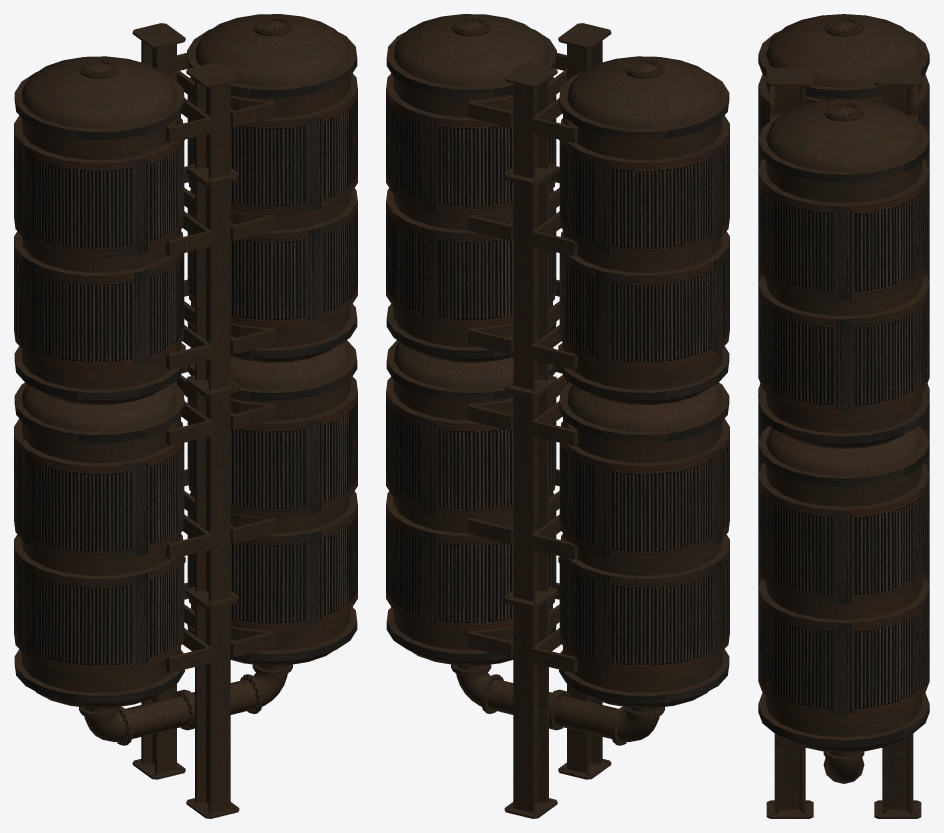
The model's file is boiler_hx_3.glb.
3 views of the same model, side by side, from view 1: azimuth 30°, elevation 25°; view 2: azimuth 150°, elevation 25°; view 3: azimuth 270°, elevation 25° (orthographic).
Parts seen in each view (by area): view 1: boiler_hx_3; view 2: boiler_hx_3; view 3: boiler_hx_3.
Boxes of the visible parts, box(x1,y1,x2,y2) form: boiler_hx_3: box(14, 14, 357, 818); boiler_hx_3: box(386, 14, 729, 818); boiler_hx_3: box(758, 14, 929, 818).
Bounding box in the file's own units: 4.78 × 10.55 × 2.2.
2 materials, 2 textured.
